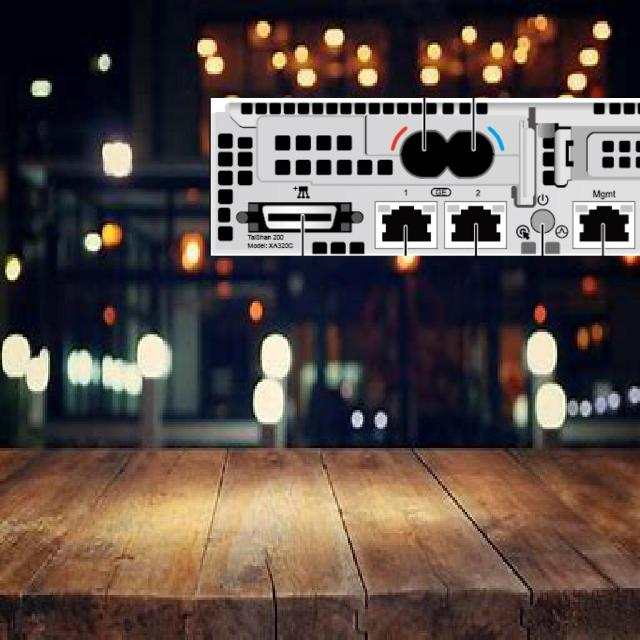Server: (208, 98, 640, 255)
